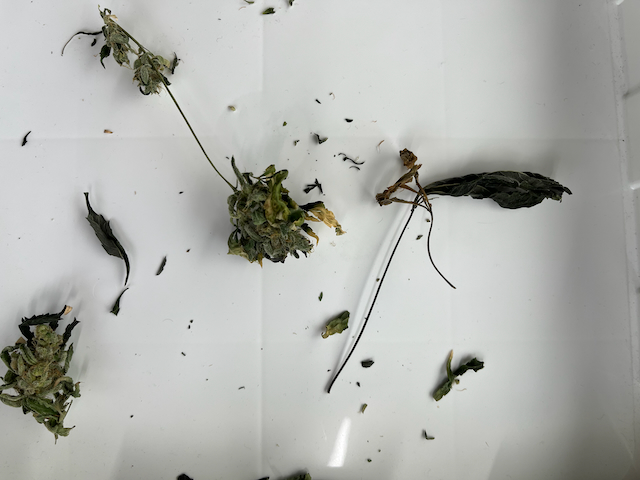Bud: (236, 176, 307, 264), (9, 320, 74, 410), (101, 24, 129, 63), (137, 56, 163, 95)
Leaf: (417, 167, 585, 219), (70, 186, 142, 289), (413, 331, 492, 419)
Leaf-Attachment: (424, 204, 434, 214)
Stem: (166, 84, 235, 191), (357, 289, 383, 336), (379, 244, 401, 299), (392, 208, 416, 249), (323, 358, 347, 394), (340, 334, 362, 368), (131, 33, 150, 55)
